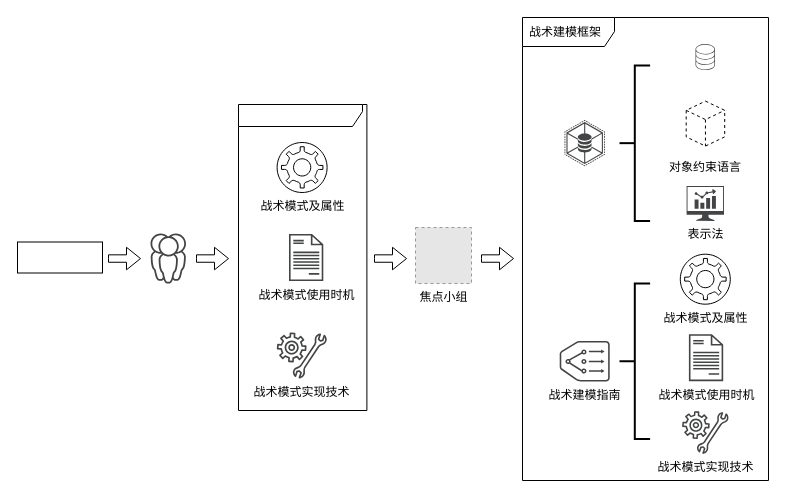
Some shapes in this 786 by 498 pixel diagram are drawn without their labels. Grey dashed boxes stand in for pictures. Each missing label, with the box of its shape:
元模型: (695, 44, 714, 70)
战术建模语言: (564, 119, 604, 166)
文献综述: (16, 241, 102, 273)
文献综述与访谈结果: (238, 104, 367, 410)
访谈: (150, 233, 186, 283)
